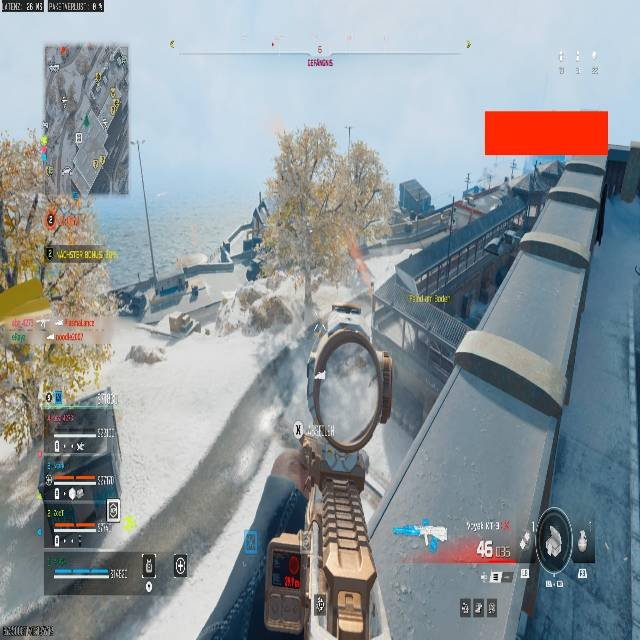head: (313, 343, 383, 444)
player: (256, 373, 397, 639)
